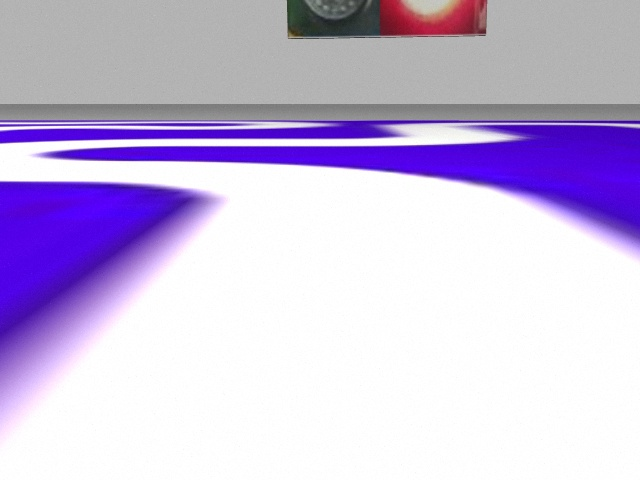red: (379, 1, 488, 34)
